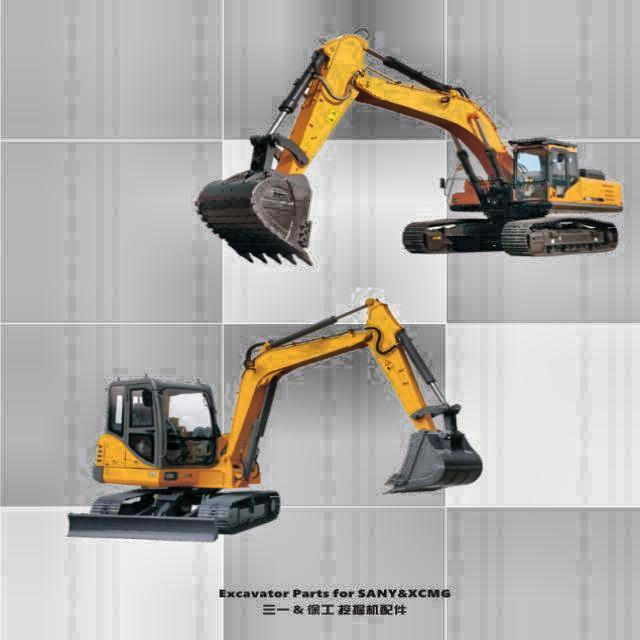excavator: (67, 292, 485, 541), (194, 32, 626, 266)
